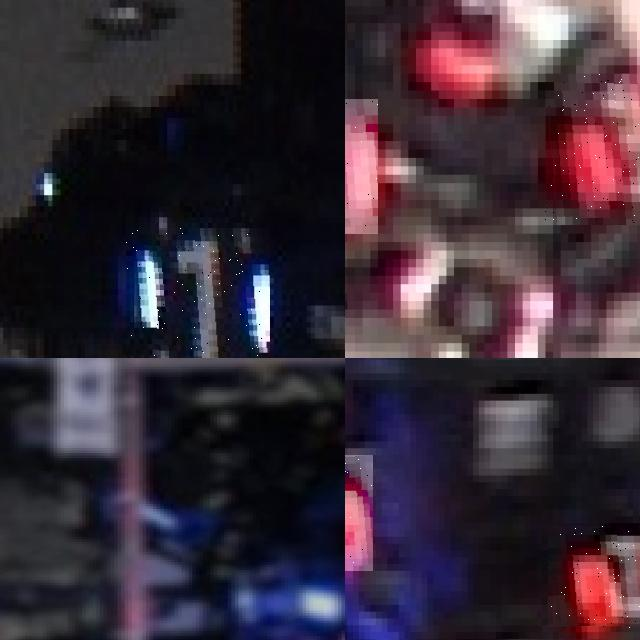B1: (126, 228, 269, 358)
R2: (547, 526, 640, 628), (345, 455, 373, 570)
R3: (545, 73, 640, 225)
